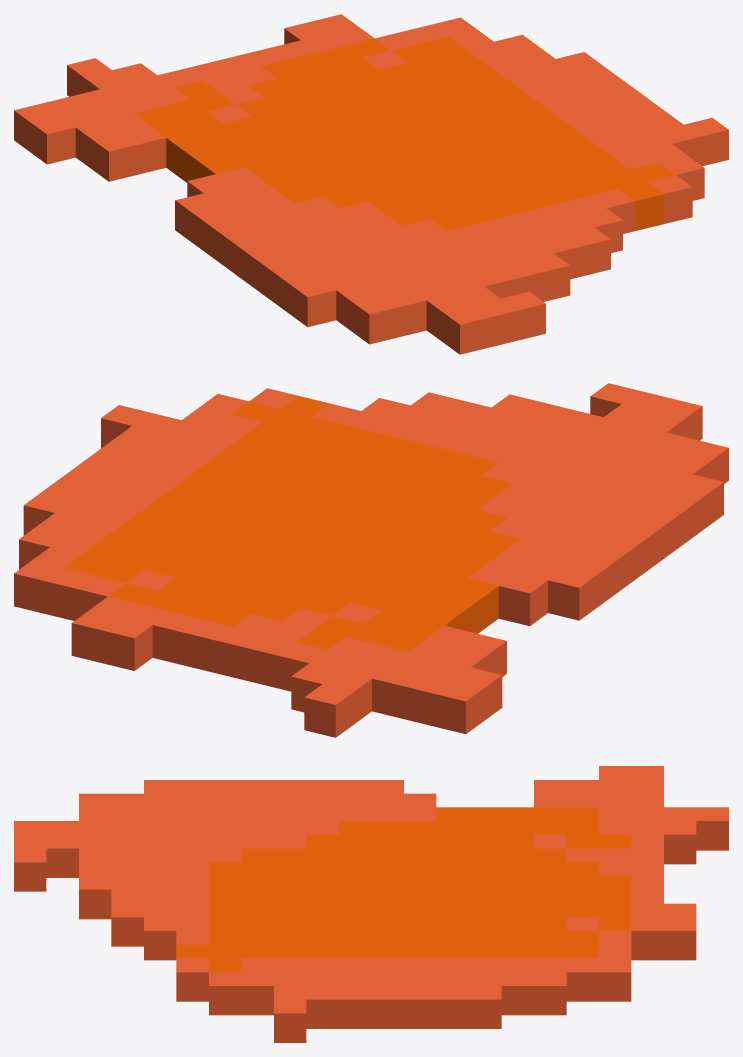
The model's file is map_v1-6.obj.
3 renders of one model, top to bottom at view 1: azimuth 30°, elevation 25°; view 2: azimuth 150°, elevation 25°; view 3: azimuth 270°, elevation 25°, orthographic. The views are drawn at different scales.
Bounding box in the file's own units: 1.8 × 0.1 × 2.2.
1 material, 1 textured.
